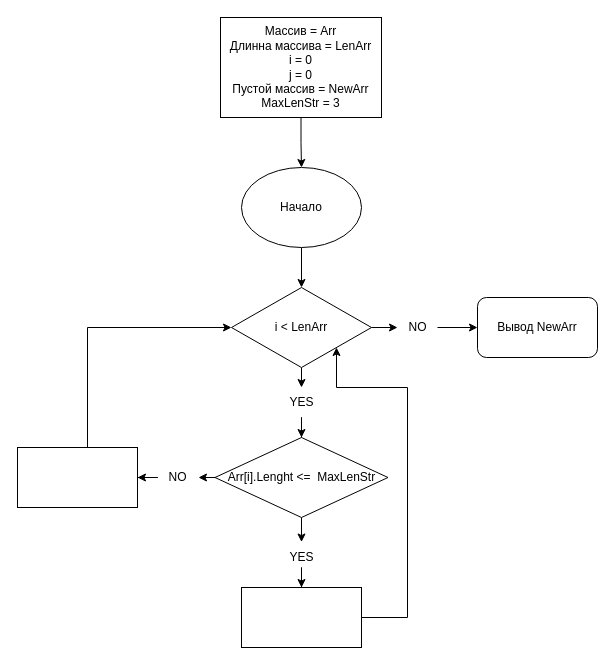
Image size: 615x665. Some labels were removed from this diagram. Here are the shapes that lost their labels. From the top down, the centre of each, then its label:
point 77,477: i += 1
point 301,617: NewArr[j] += Arr[i] i += 1 j += 1
